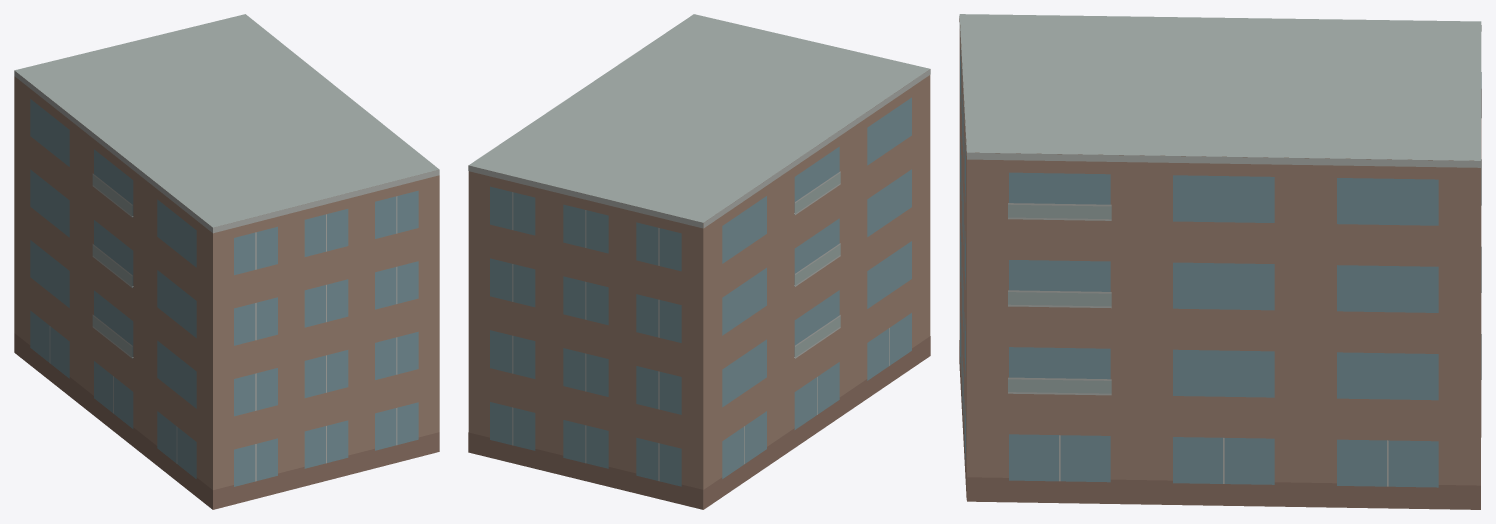
Rendered from survey-upis-32663501.glb.
3 views of the same model, side by side, from view 1: azimuth 30°, elevation 25°; view 2: azimuth 150°, elevation 25°; view 3: azimuth 270°, elevation 25° (orthographic). The views are drawn at different scales.
Parts seen in each view (by area): view 1: survey-upis-32663501.tmp; view 2: survey-upis-32663501.tmp; view 3: survey-upis-32663501.tmp.
Part boxes in pixels (left/top/right/bottom): survey-upis-32663501.tmp: left=14, top=14, right=439, bottom=509; survey-upis-32663501.tmp: left=468, top=14, right=930, bottom=509; survey-upis-32663501.tmp: left=959, top=14, right=1481, bottom=509.
Size of the model in its own units: 11.02 by 12.2 by 16.54.
